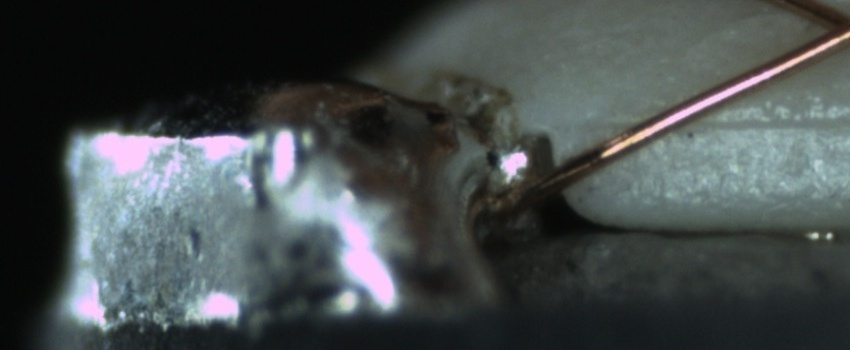CL: (798, 0, 850, 60)
DL: (625, 96, 849, 152)
